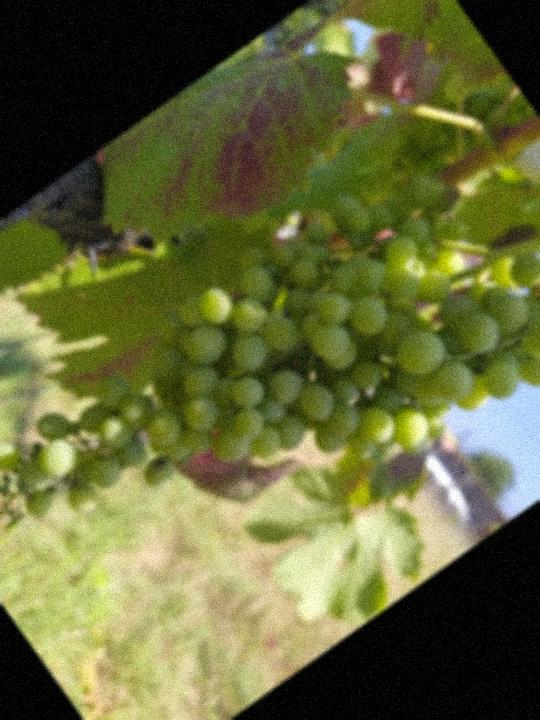grape: (0, 74, 540, 709)
